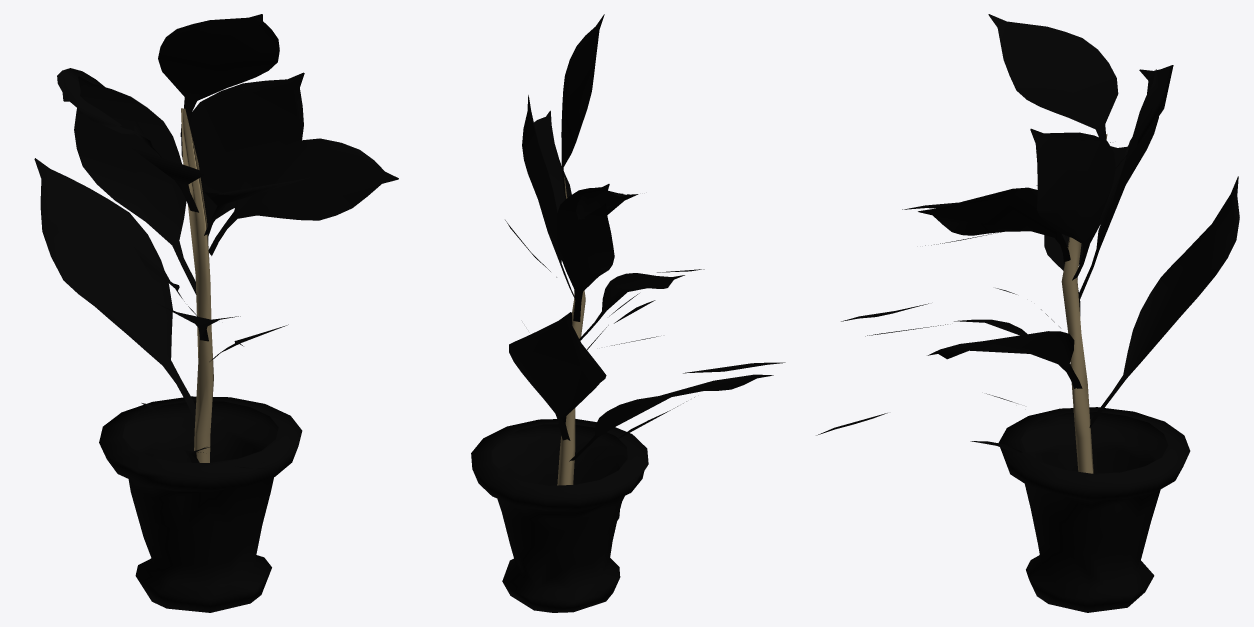
The model's file is Potted Plant.fbx.
3 renders of one model, left to right at view 1: azimuth 30°, elevation 25°; view 2: azimuth 150°, elevation 25°; view 3: azimuth 270°, elevation 25°, orthographic. The views are drawn at different scales.
Parts seen in each view (by area): view 1: rubberPlantPotted1Leaf; view 2: rubberPlantPotted1Leaf; view 3: rubberPlantPotted1Leaf.
Boxes of the visible parts, x1,y1,x2,y2 form: rubberPlantPotted1Leaf: (34, 14, 398, 612); rubberPlantPotted1Leaf: (471, 14, 785, 612); rubberPlantPotted1Leaf: (816, 14, 1239, 612).
Size of the model in its own units: 1.2 by 1.92 by 1.27.
